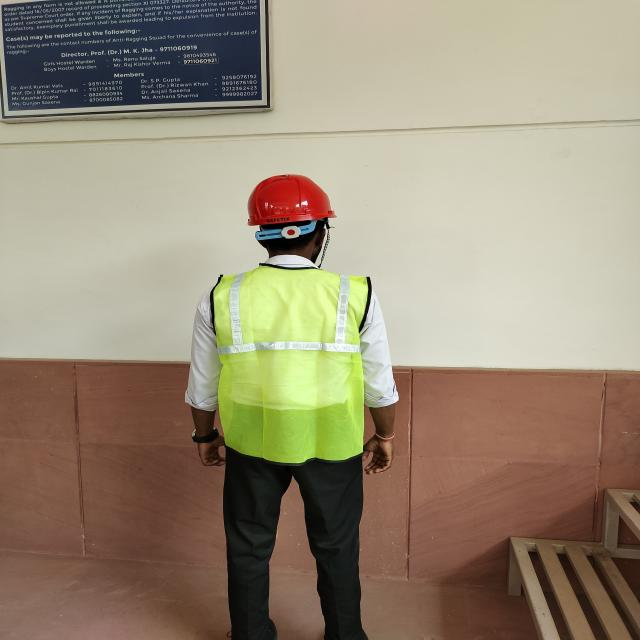safe: (188, 174, 396, 639)
